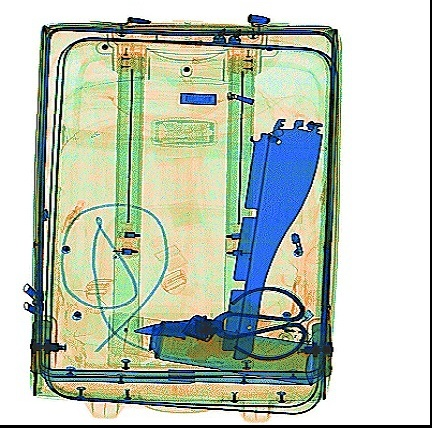lighter: (255, 306, 314, 355)
pressure: (120, 312, 319, 385)
scissors: (133, 282, 307, 361)
